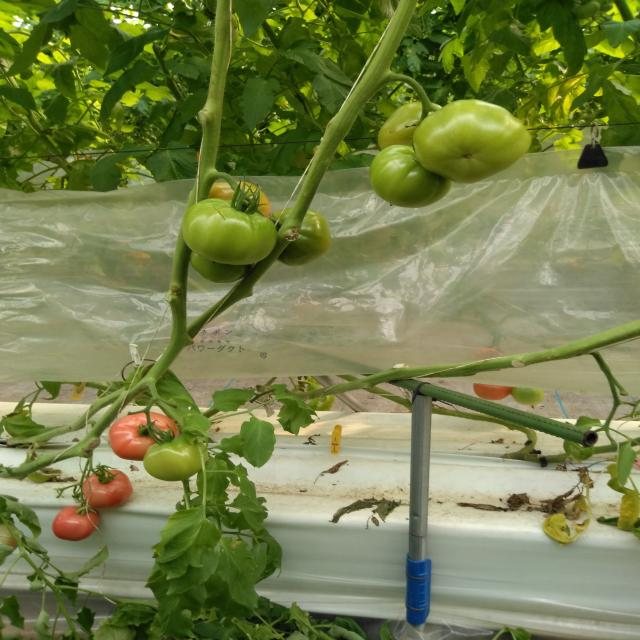n-half-riped: (109, 410, 180, 460), (207, 181, 271, 219), (81, 469, 132, 509), (473, 384, 514, 401)
n-riped: (52, 505, 100, 541)
n-unriped: (412, 99, 532, 185), (182, 198, 279, 265), (369, 145, 453, 208), (269, 207, 331, 267), (377, 101, 442, 151), (143, 435, 209, 482), (189, 249, 256, 284), (510, 387, 545, 406)
